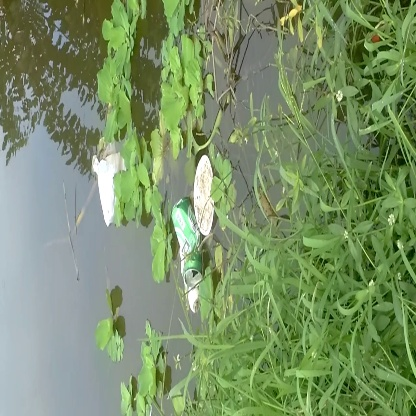bottle: (167, 196, 207, 289)
